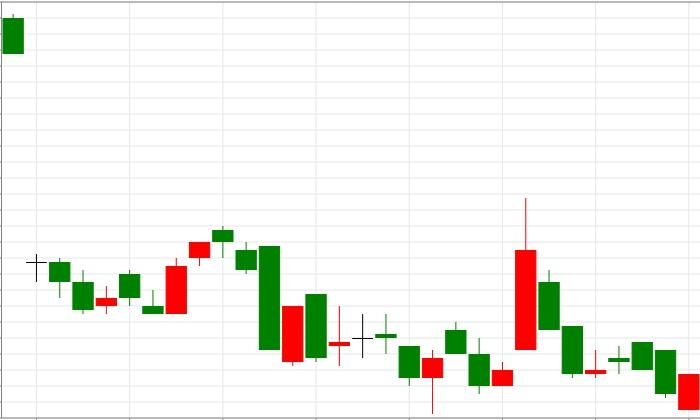bullish_engulfing_rise: (2, 13, 187, 314)
